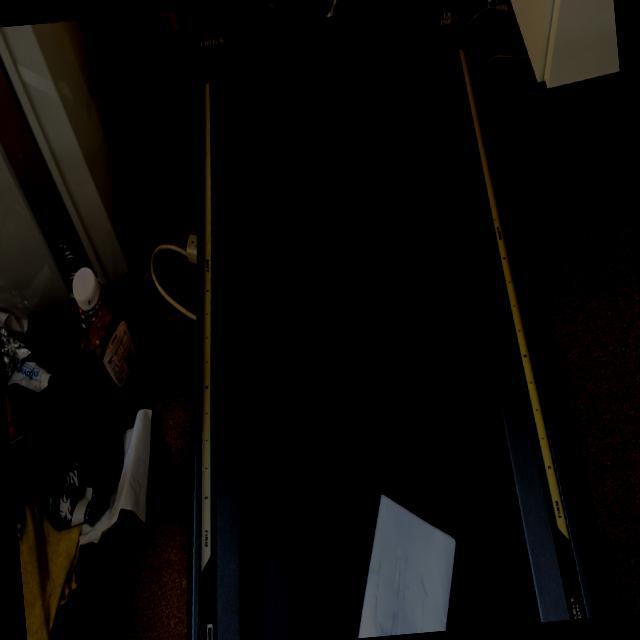Recycle: (344, 485, 465, 638)
